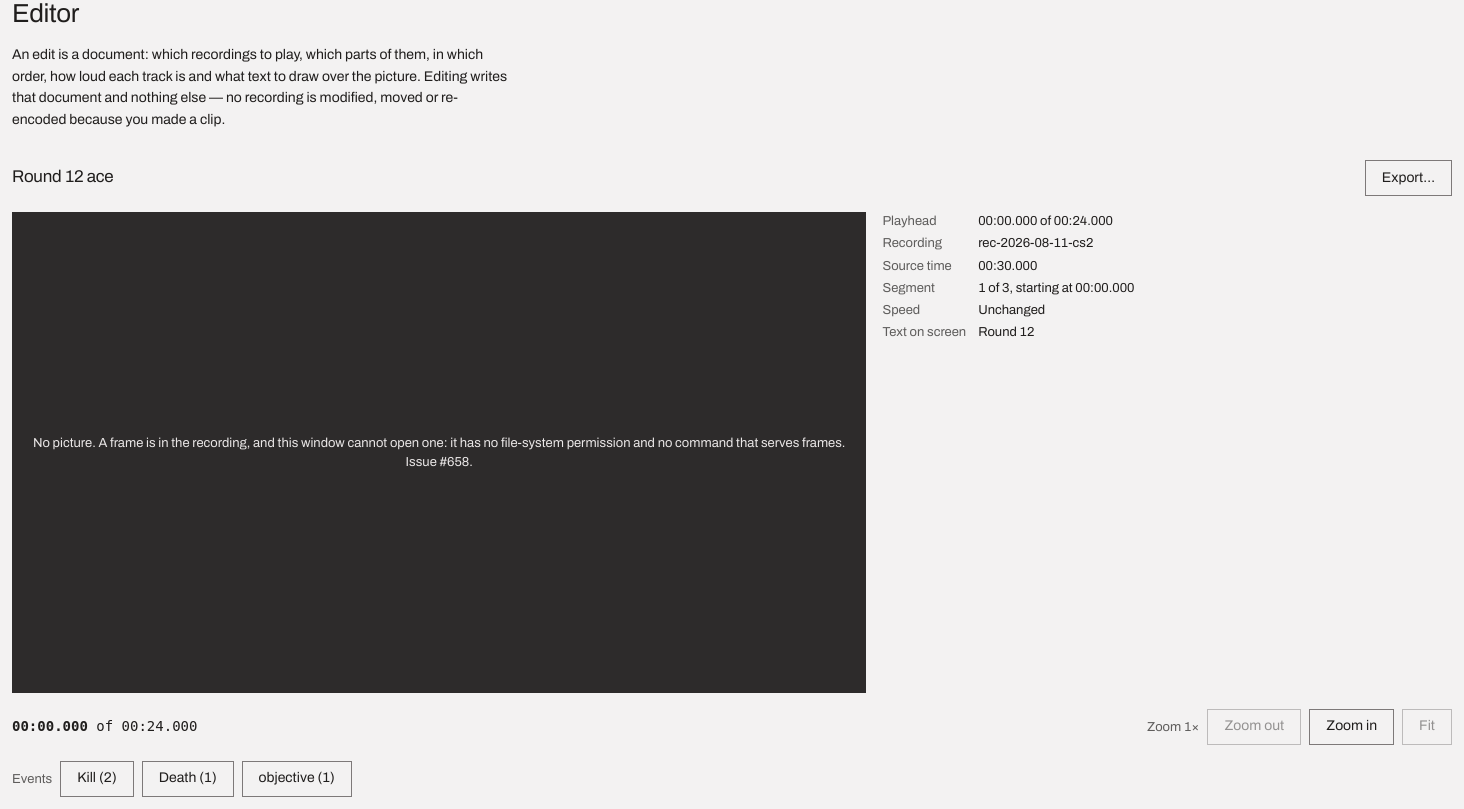
Test: the event filter › hides a kind when its toggle is pressed, and says so in words
Step 1. Click the button "Kill (2)" → point(97, 779), box [60,761,134,797]
(page scrolled)
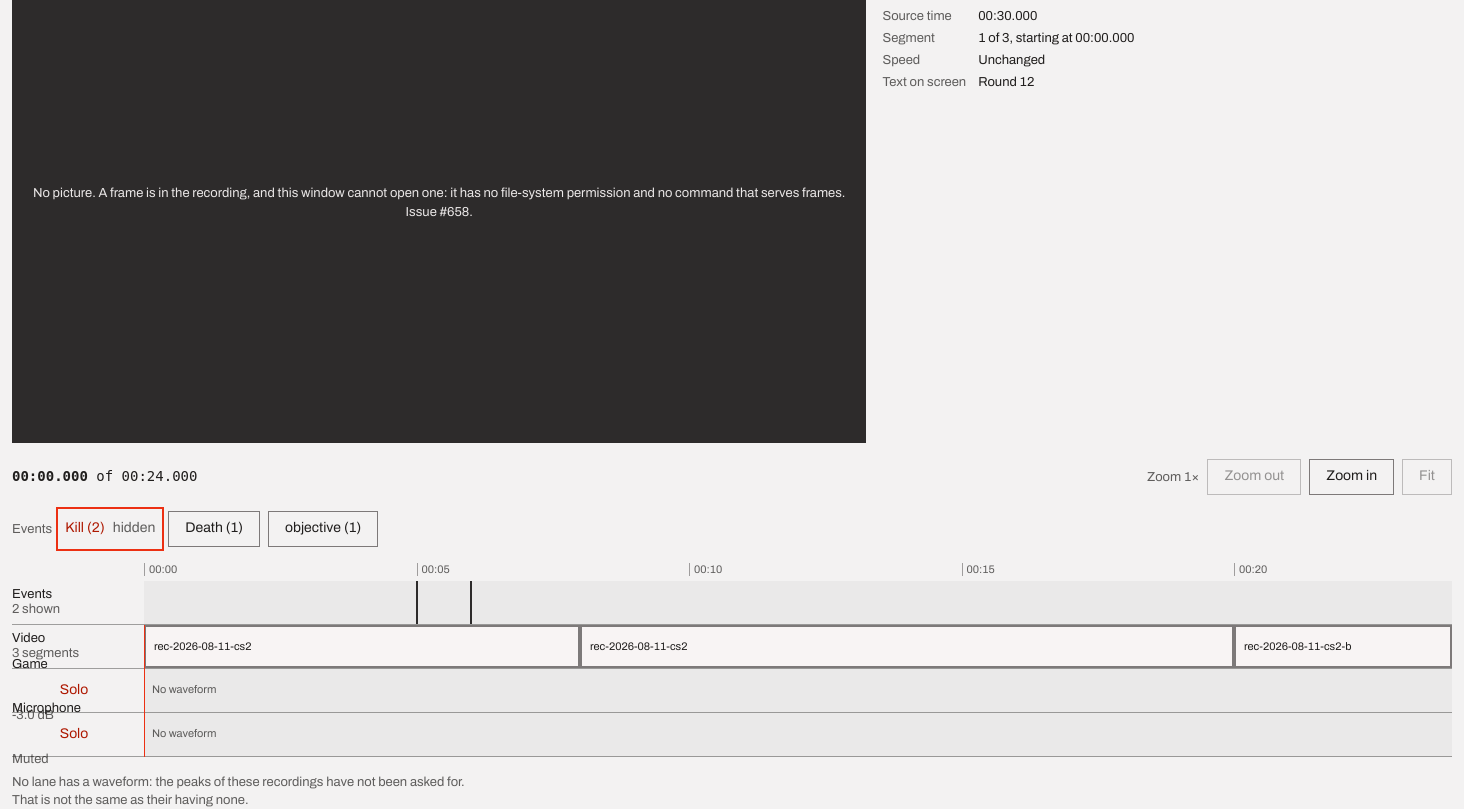
Expected: the text "2 shown" is shown, [12,602,60,616]
